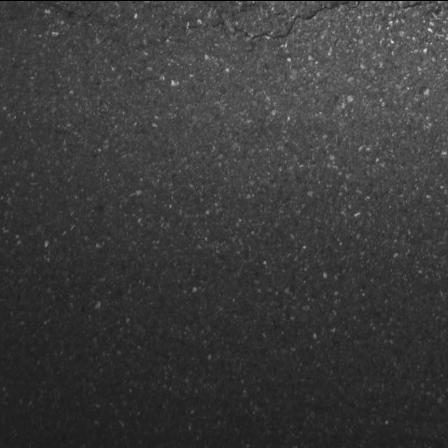crack: (172, 0, 358, 42), (370, 0, 432, 31)
